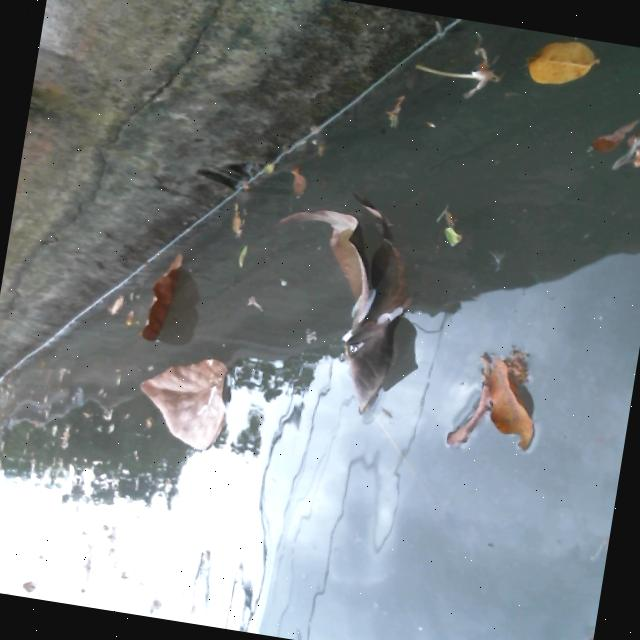Big-leaf: (248, 187, 443, 436), (432, 325, 572, 479), (126, 346, 239, 454), (134, 244, 197, 343)
Small-leaf: (526, 30, 607, 96), (377, 58, 437, 129), (575, 109, 640, 166), (435, 184, 481, 247), (222, 191, 256, 237), (96, 283, 135, 323), (298, 118, 336, 154), (279, 159, 310, 195)
